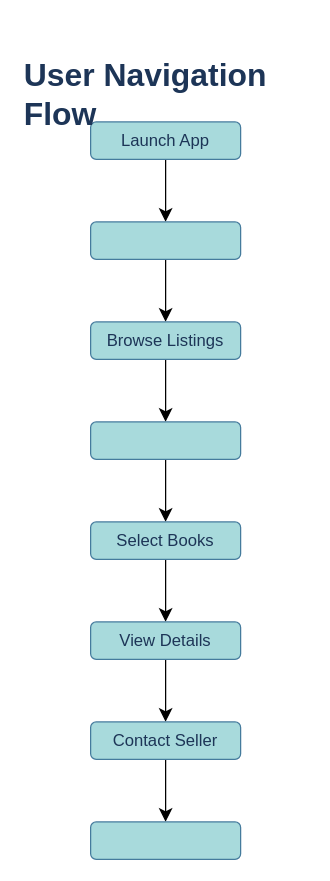
The diagram is 330 pixels wide and 881 high, and some of its shapes have lost their labels. The centre of each missing label's shape, as x and y in pixels:
Confirmation Message: point 165,840
Home Screen: point 165,240
Search Textbooks: point 165,440
